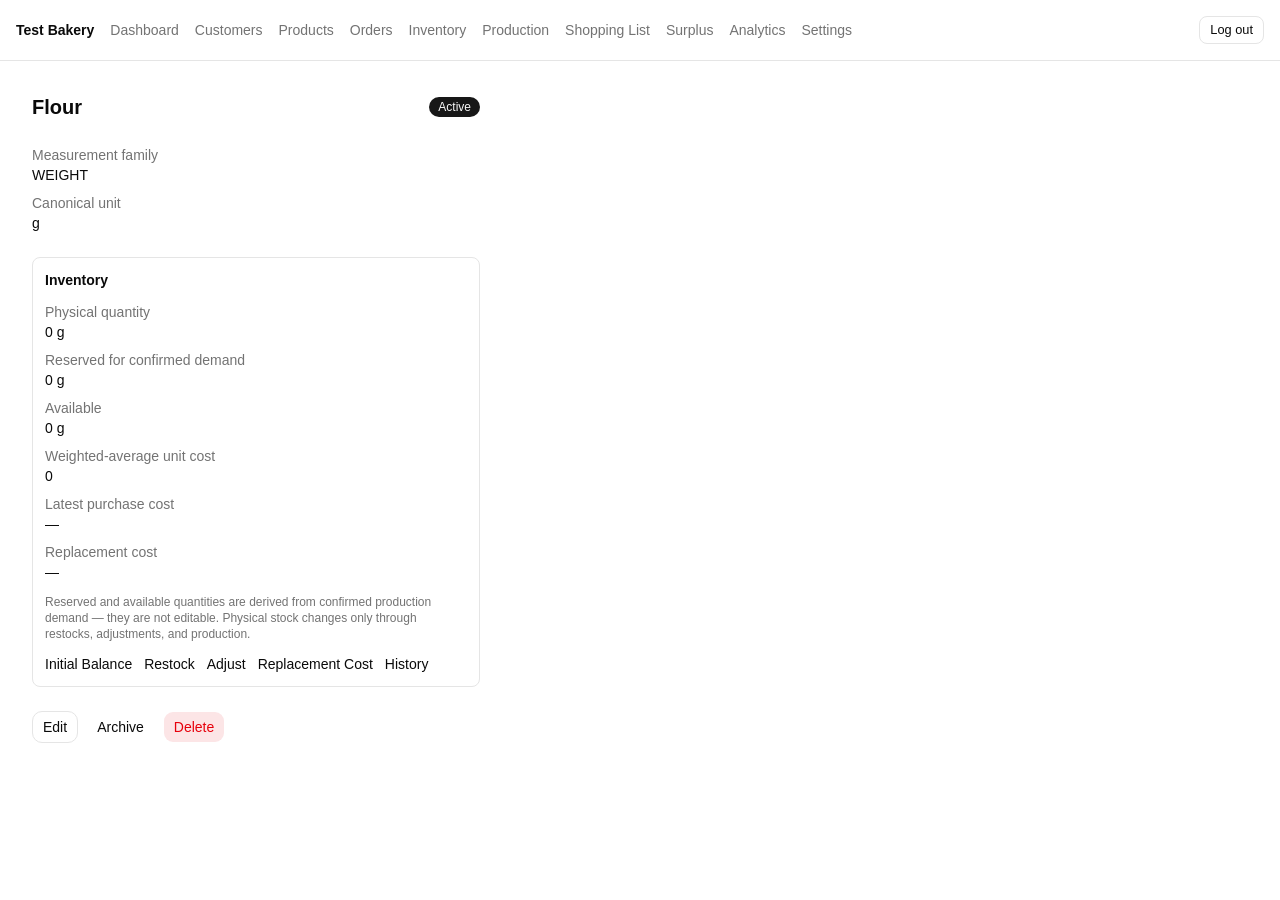
Test case: Ingredient detail — lifecycle actions › closes the confirmation dialog after a blocked delete, keeping the error visible and the ingredient intact
Expected: the heading "Flour" is shown, 32,93 -> 82,121
Click the button "Delete" at (194, 727), box 163,711 -> 225,743
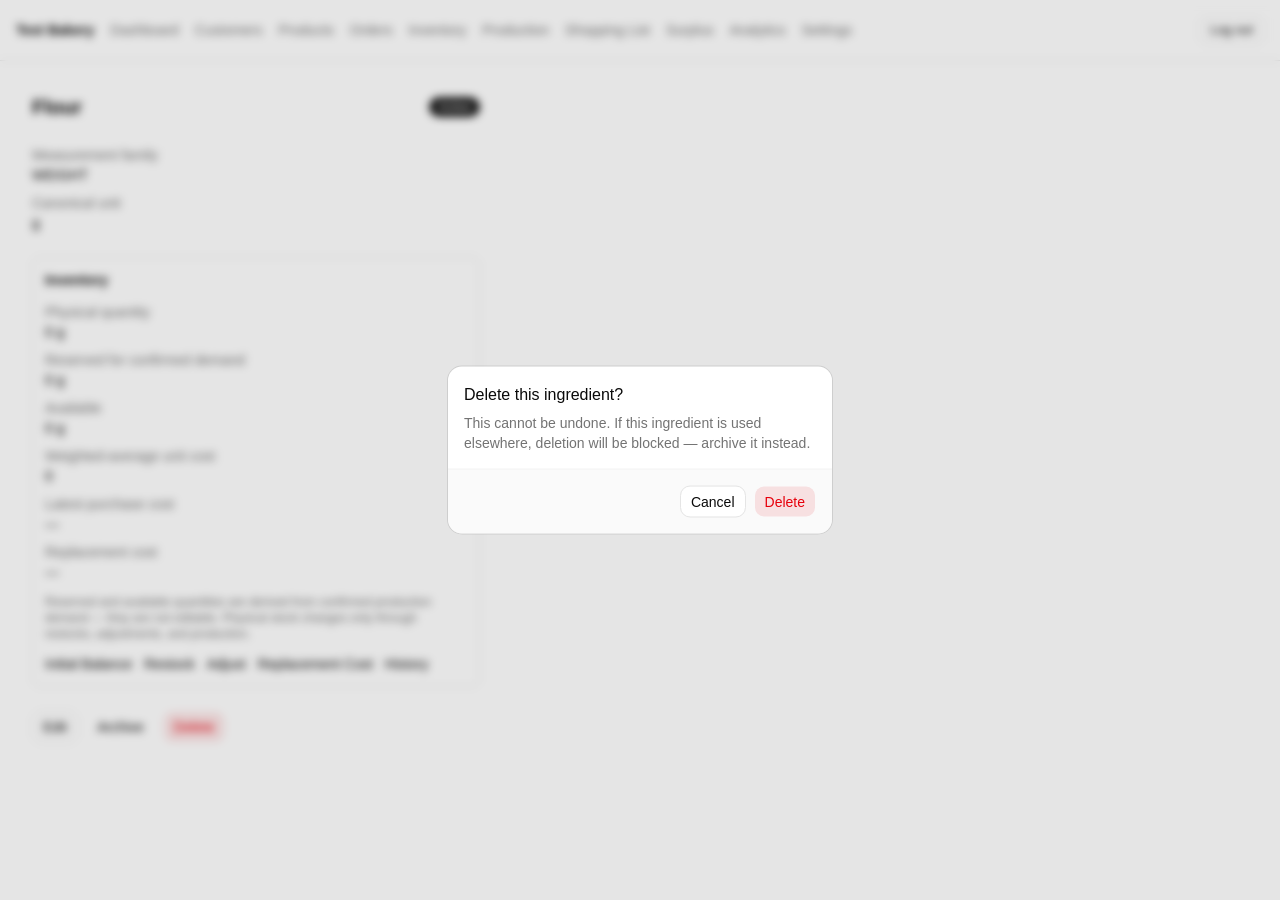
Click the button "Delete" at (785, 502), box 754,486 -> 816,518
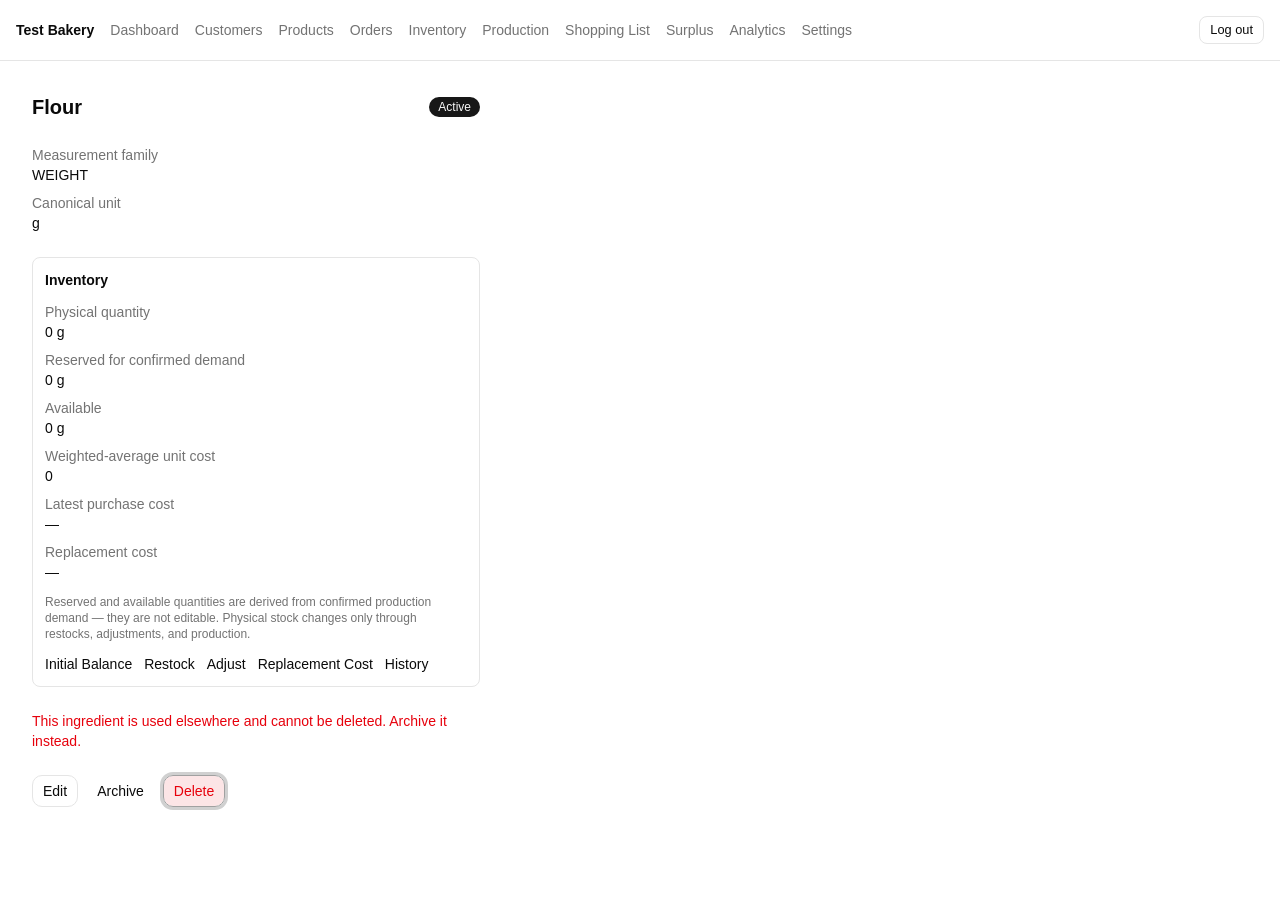
Expected: the heading "Flour" is shown, 32,93 -> 82,121
Expected: the dialog is gone
Expected: the text "This ingredient is used elsewhere and cannot be deleted. Archive it instead." is shown, 32,711 -> 480,751
